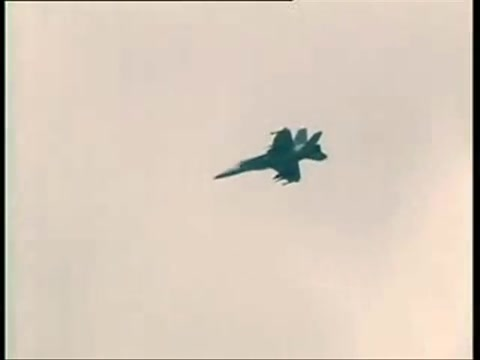aeroplane: (214, 127, 329, 187)
